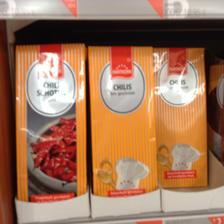Gewuerze: (14, 42, 86, 202), (86, 42, 154, 196), (153, 46, 207, 188)
